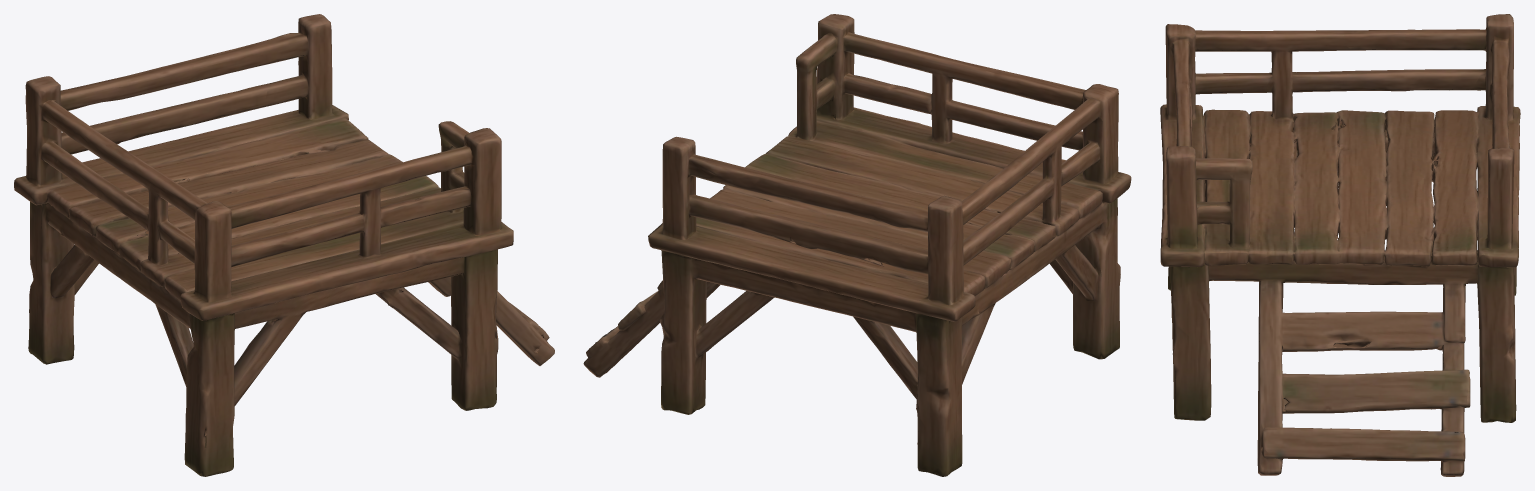
File: anden_andarivel.glb
3 renders of one model, left to right at view 1: azimuth 30°, elevation 25°; view 2: azimuth 150°, elevation 25°; view 3: azimuth 270°, elevation 25°, orthographic. The views are drawn at different scales.
Visible parts, largest first — view 1: geometry_0; view 2: geometry_0; view 3: geometry_0.
Part boxes in pixels (x1,y1,x2,y2): geometry_0: (14, 14, 554, 476); geometry_0: (583, 14, 1131, 476); geometry_0: (1160, 14, 1520, 476).
Size of the model in its own units: 0.9974 by 0.6648 by 0.7763.
1 material, 1 textured.
